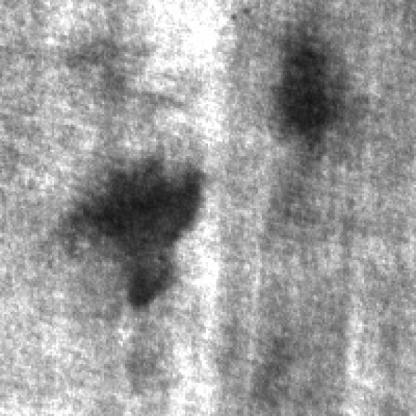patches: (86, 154, 212, 306), (268, 27, 346, 141)
